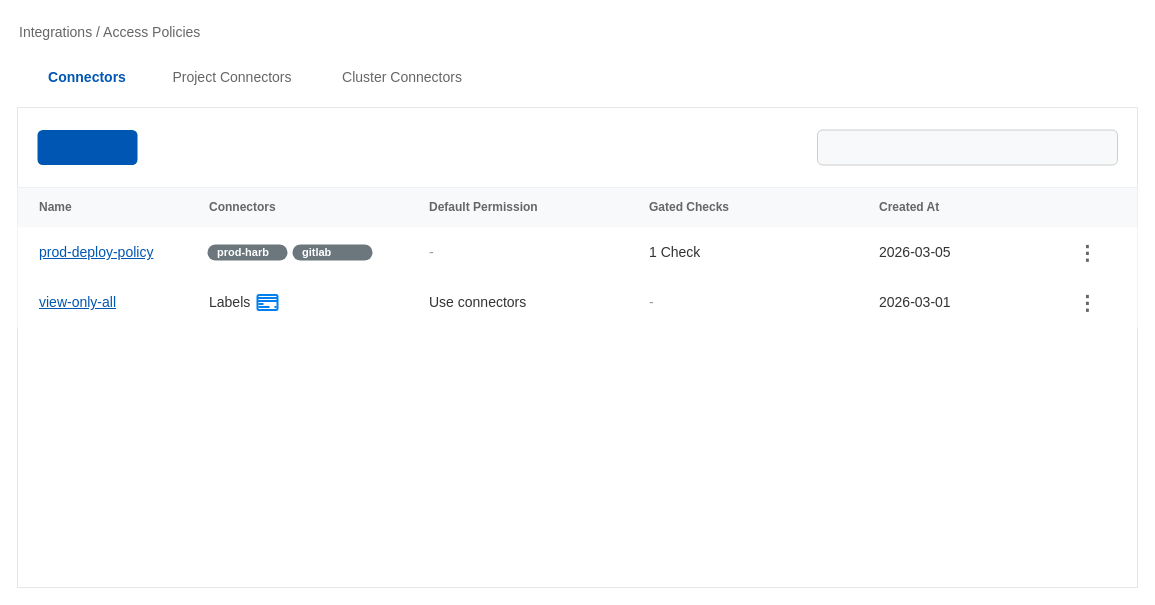
This 1155x605 diagram has some shape labels left out. The shapes that lost their labels are listed below. From the top down, each one's centre as x and y in pixels, then its label:
pixel 87 147: Create
pixel 967 147: Search by name
